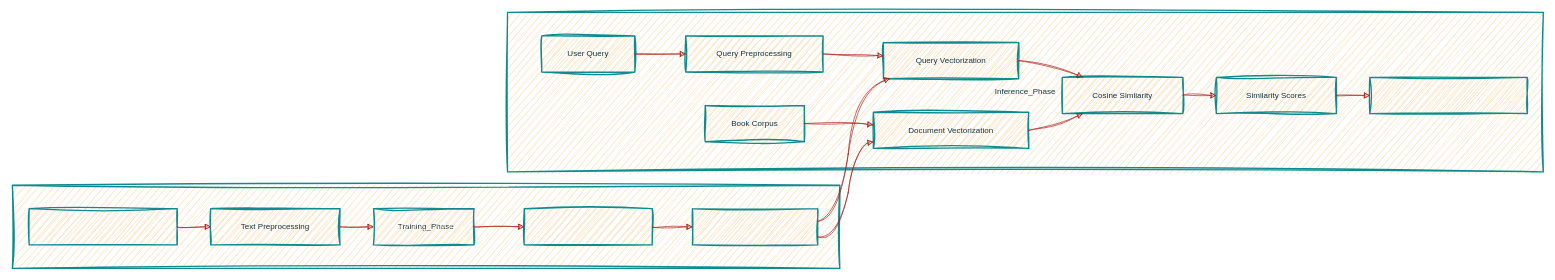
Some shapes in this 1555 by 280 pixel diagram are drawn without their labels. Each missing label, with the box of its shape:
Raw Book Descriptions: (28, 208, 178, 245)
Tokenization: (373, 208, 474, 245)
Top-K Recommendations: (1369, 76, 1528, 114)
Word Embeddings: (691, 208, 818, 245)
Word2Vec Training: (523, 208, 653, 245)
